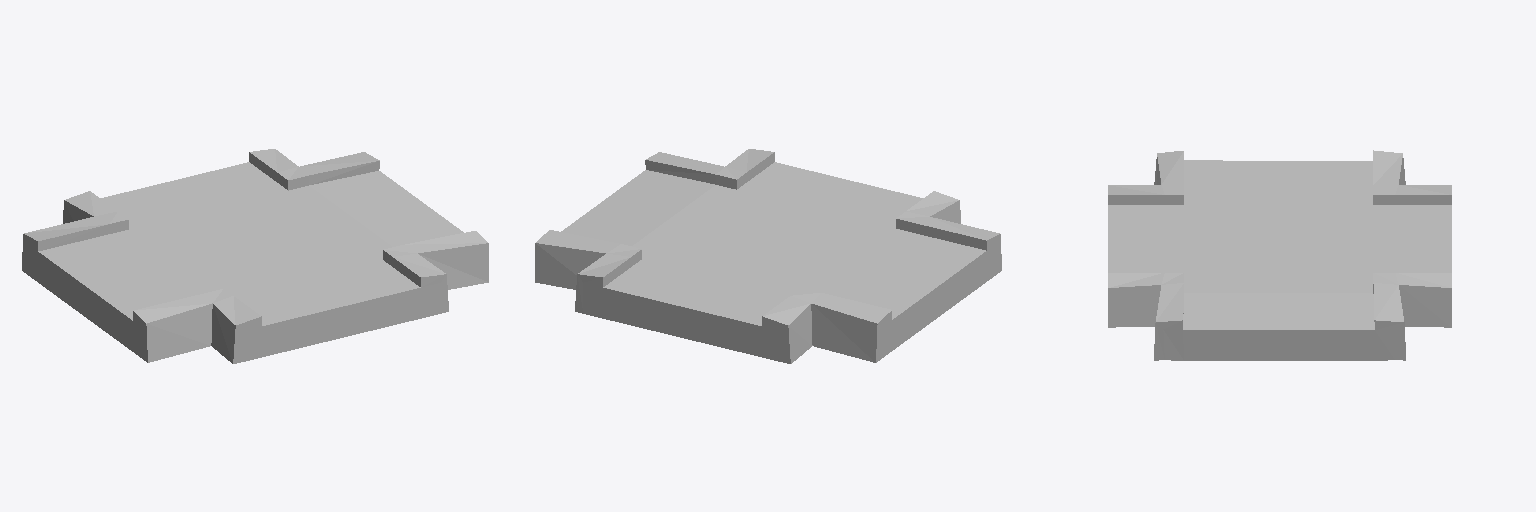
The model's file is Road Cross OBJ.obj.
3 renders of one model, left to right at view 1: azimuth 30°, elevation 25°; view 2: azimuth 150°, elevation 25°; view 3: azimuth 270°, elevation 25°, orthographic.
Visible parts, largest first — view 1: ROAD__Cross; view 2: ROAD__Cross; view 3: ROAD__Cross.
Part boxes in pixels (x1,y1,x2,y2): ROAD__Cross: (22,149,488,363); ROAD__Cross: (535,149,1001,363); ROAD__Cross: (1108,150,1451,360).
Size of the model in its own units: 92.15 by 11.37 by 80.06.